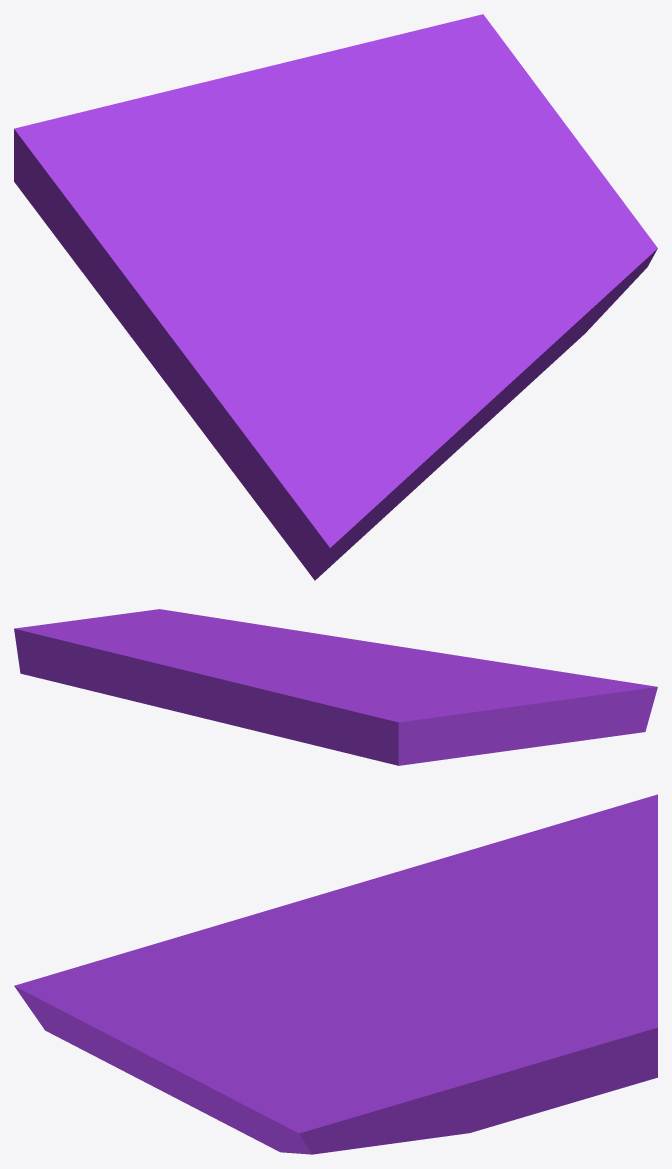
File: Window_139_2_chunks.fbx
3 views of the same model, one above another, from view 1: azimuth 30°, elevation 25°; view 2: azimuth 150°, elevation 25°; view 3: azimuth 270°, elevation 25° (orthographic). The views are drawn at different scales.
Parts seen in each view (by area): view 1: Window_139_2_11, Window_139_2_14, Window_139_2_2, Window_139_2_8, Window_139_2_7, Window_139_2_10, Window_139_2_3, Window_139_2_4, Window_139_2_6, Window_139_2_15, Window_139_2_13, Window_139_2_9 (+1 smaller); view 2: Window_139_2_10, Window_139_2_8, Window_139_2_7, Window_139_2_11, Window_139_2_14, Window_139_2_2, Window_139_2_3, Window_139_2_4, Window_139_2_6, Window_139_2_15, Window_139_2_13, Window_139_2_12 (+1 smaller); view 3: Window_139_2_7, Window_139_2_11, Window_139_2_8, Window_139_2_6, Window_139_2_14, Window_139_2_3, Window_139_2_2, Window_139_2_10, Window_139_2_4, Window_139_2_13, Window_139_2_15, Window_139_2_9.
Part boxes in pixels (x1,y1,x2,y2): Window_139_2_11: (65, 169, 339, 355); Window_139_2_14: (218, 373, 416, 580); Window_139_2_2: (145, 244, 387, 440); Window_139_2_8: (213, 37, 403, 210); Window_139_2_7: (390, 14, 576, 193); Window_139_2_10: (14, 80, 246, 272); Window_139_2_3: (373, 234, 586, 415); Window_139_2_4: (400, 174, 602, 342); Window_139_2_6: (523, 139, 657, 332); Window_139_2_15: (296, 338, 495, 407); Window_139_2_13: (368, 382, 506, 531); Window_139_2_9: (323, 208, 404, 253); Window_139_2_10: (208, 681, 455, 765); Window_139_2_8: (84, 647, 309, 719); Window_139_2_7: (14, 618, 227, 688); Window_139_2_11: (307, 668, 511, 757); Window_139_2_14: (473, 666, 657, 738); Window_139_2_2: (317, 662, 567, 750); Window_139_2_3: (267, 626, 406, 664); Window_139_2_4: (179, 622, 287, 655); Window_139_2_6: (92, 609, 243, 630); Window_139_2_15: (391, 647, 494, 683); Window_139_2_13: (390, 645, 524, 666); Window_139_2_12: (559, 708, 595, 743); Window_139_2_7: (413, 981, 657, 1122); Window_139_2_11: (377, 825, 553, 970); Window_139_2_8: (428, 893, 657, 999); Window_139_2_6: (251, 1060, 495, 1154); Window_139_2_14: (14, 919, 250, 1054); Window_139_2_3: (168, 987, 397, 1145); Window_139_2_2: (237, 878, 394, 1000); Window_139_2_10: (532, 794, 657, 916); Window_139_2_4: (237, 996, 475, 1152); Window_139_2_13: (89, 1011, 200, 1110); Window_139_2_15: (174, 956, 267, 1059); Window_139_2_9: (392, 959, 456, 1002).
Size of the model in its own units: 929 by 439 by 1085.
